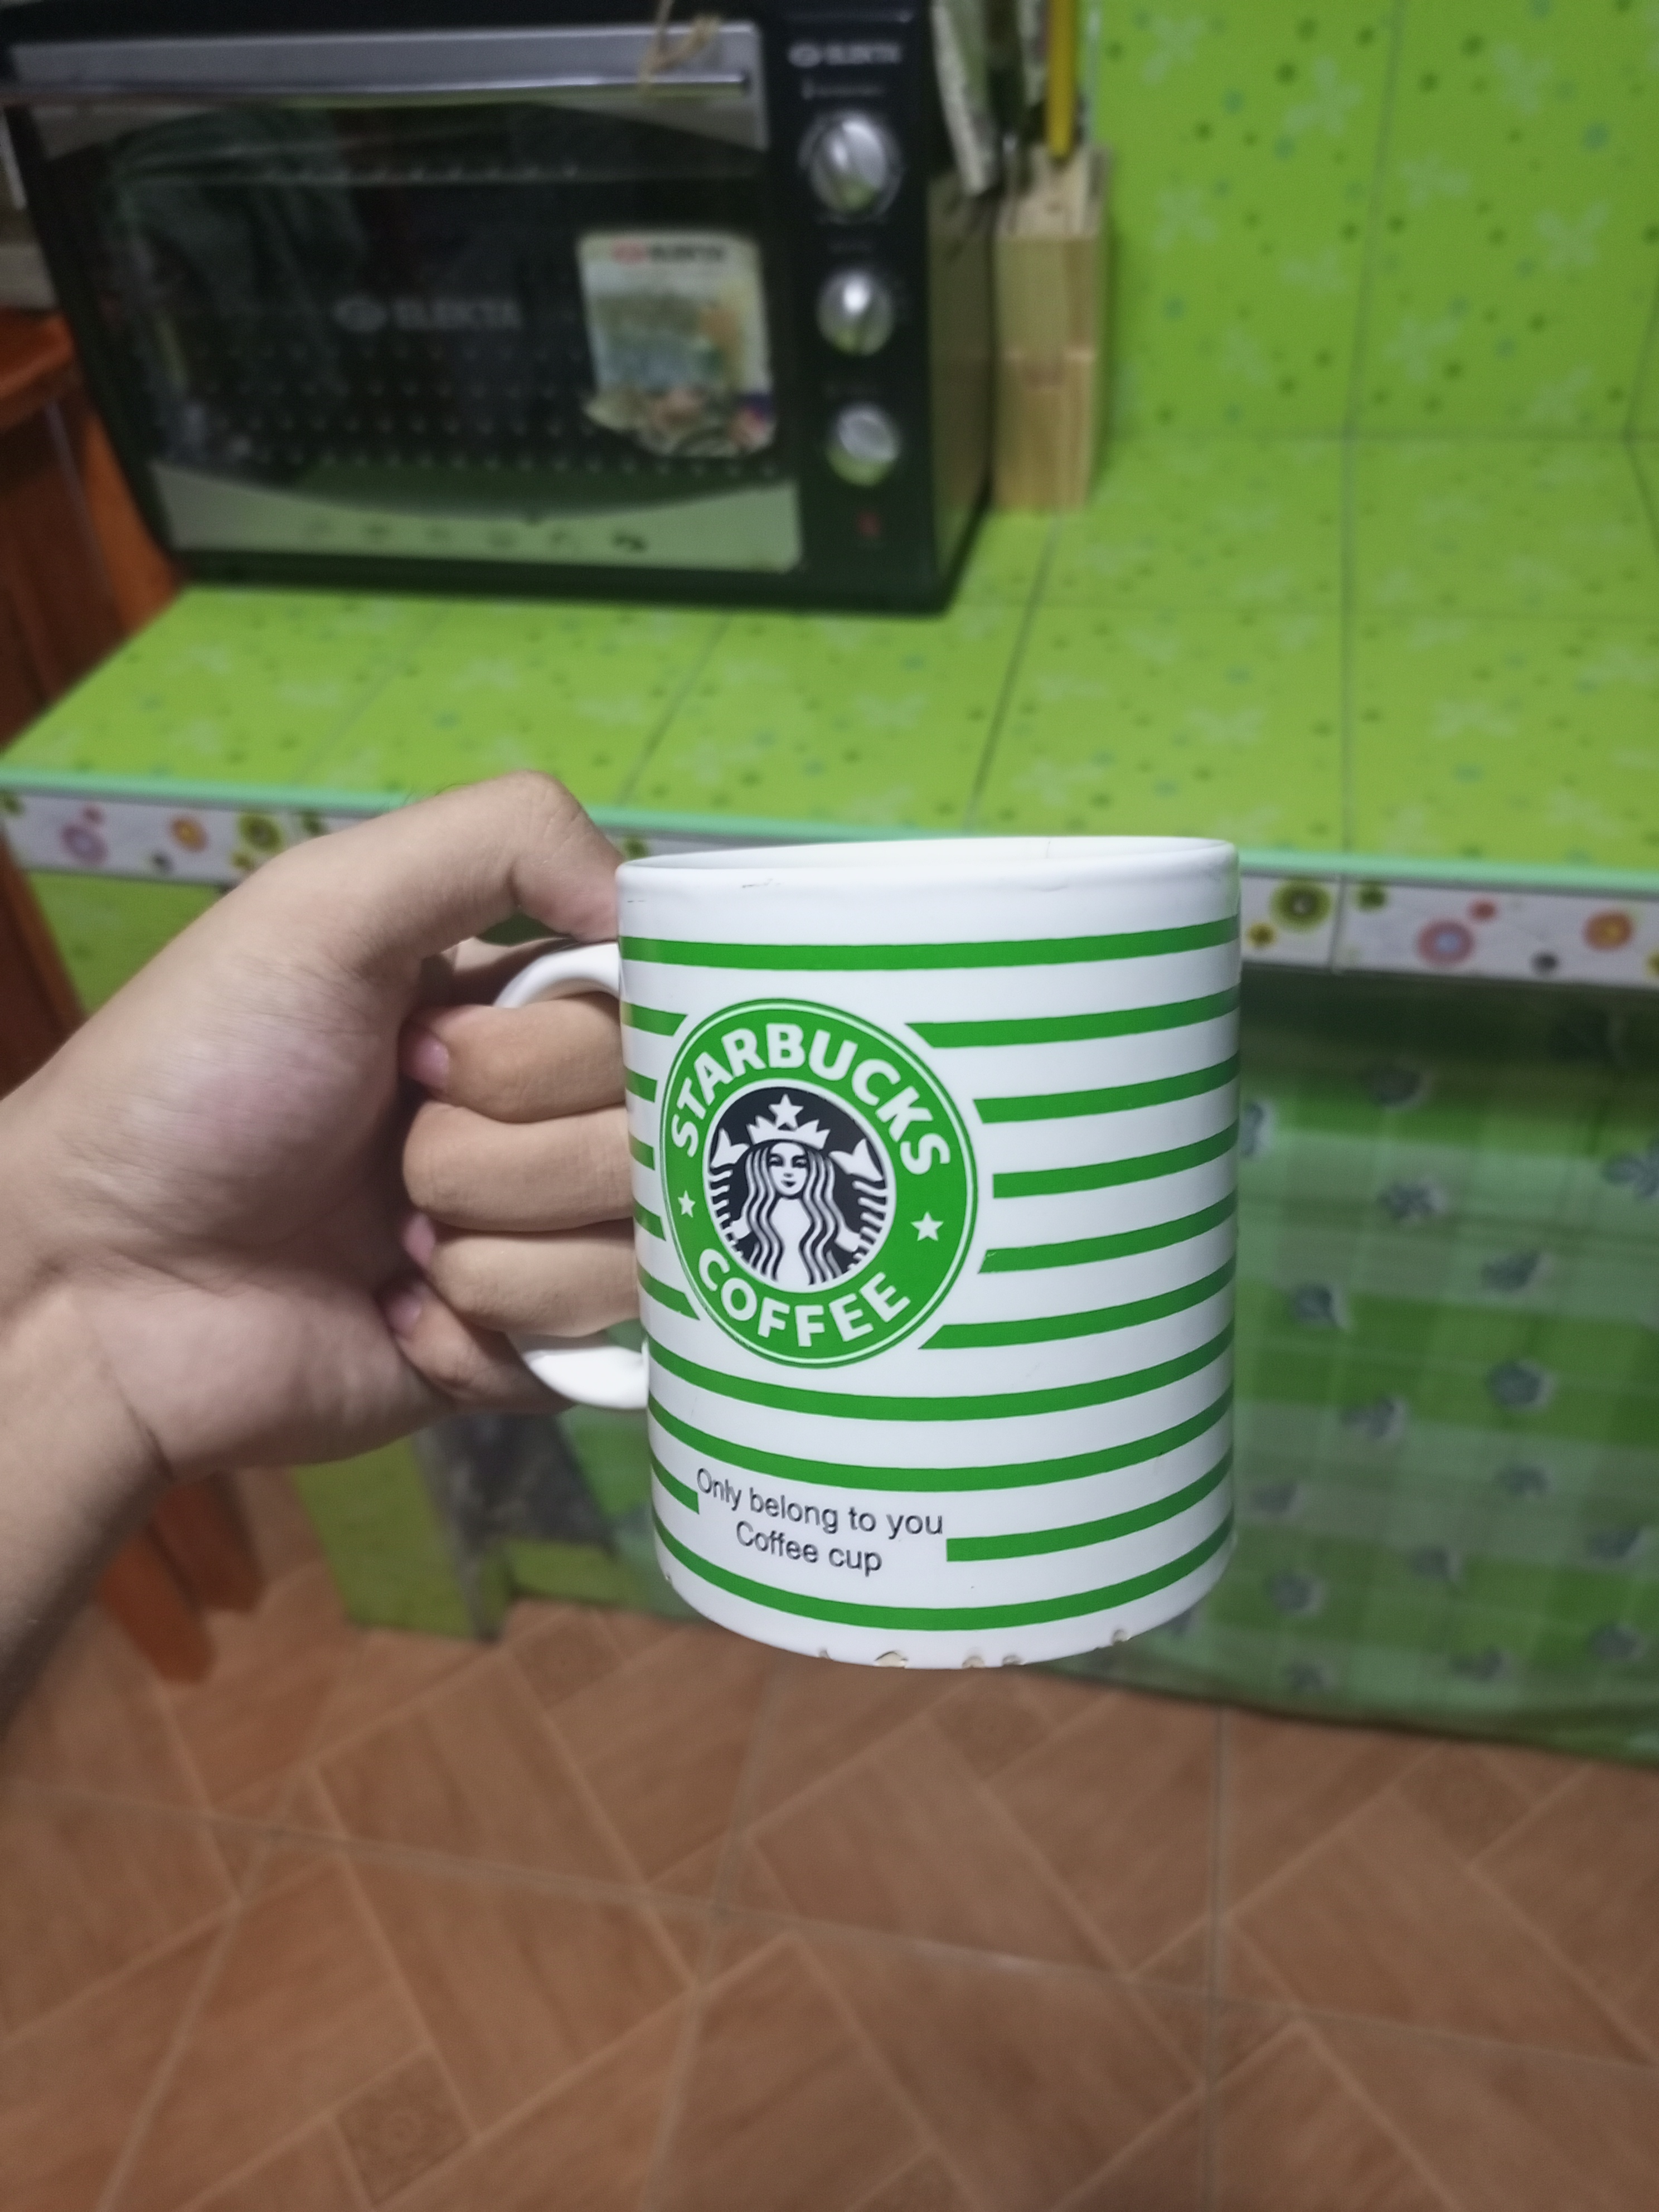mug: (476, 827, 1251, 1674)
